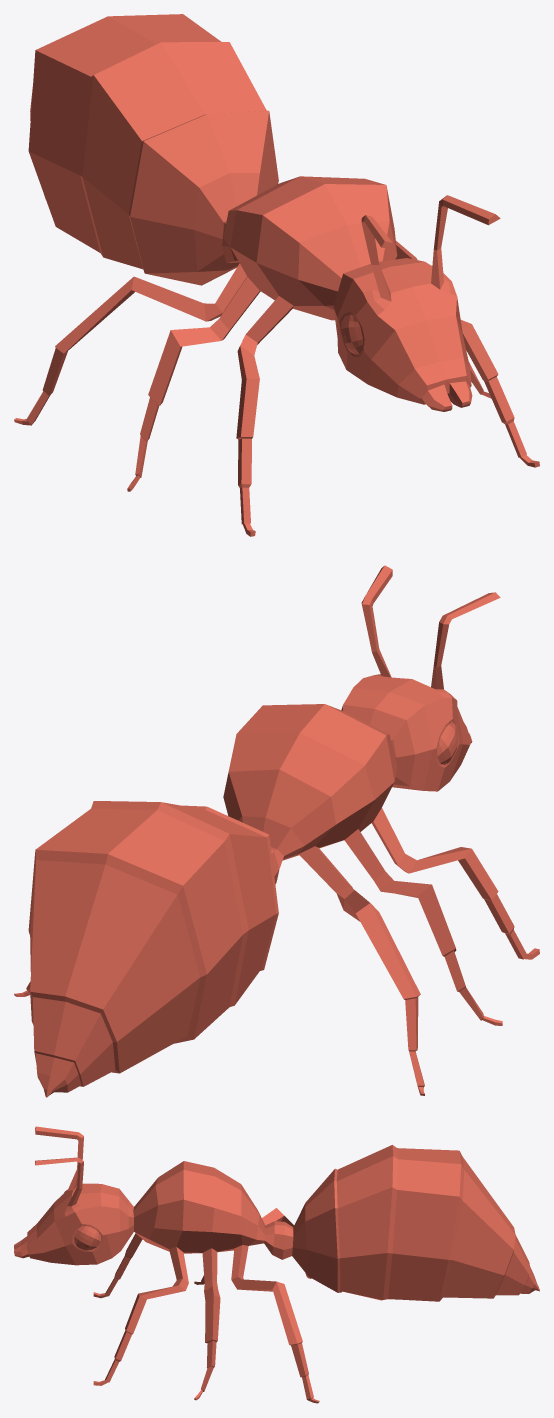
The model's file is Ant.fbx.
The picture shows the model from 3 angles, top to bottom: view 1: azimuth 30°, elevation 25°; view 2: azimuth 150°, elevation 25°; view 3: azimuth 270°, elevation 25°; orthographic projection. The views are drawn at different scales.
Visible parts, largest first — view 1: Ant; view 2: Ant; view 3: Ant.
Part boxes in pixels (<box>): Ant: <box>14,14,539,536</box>; Ant: <box>14,565,539,1097</box>; Ant: <box>14,1126,539,1403</box>.
Bounding box in the file's own units: 94.09 × 39.12 × 54.34.
